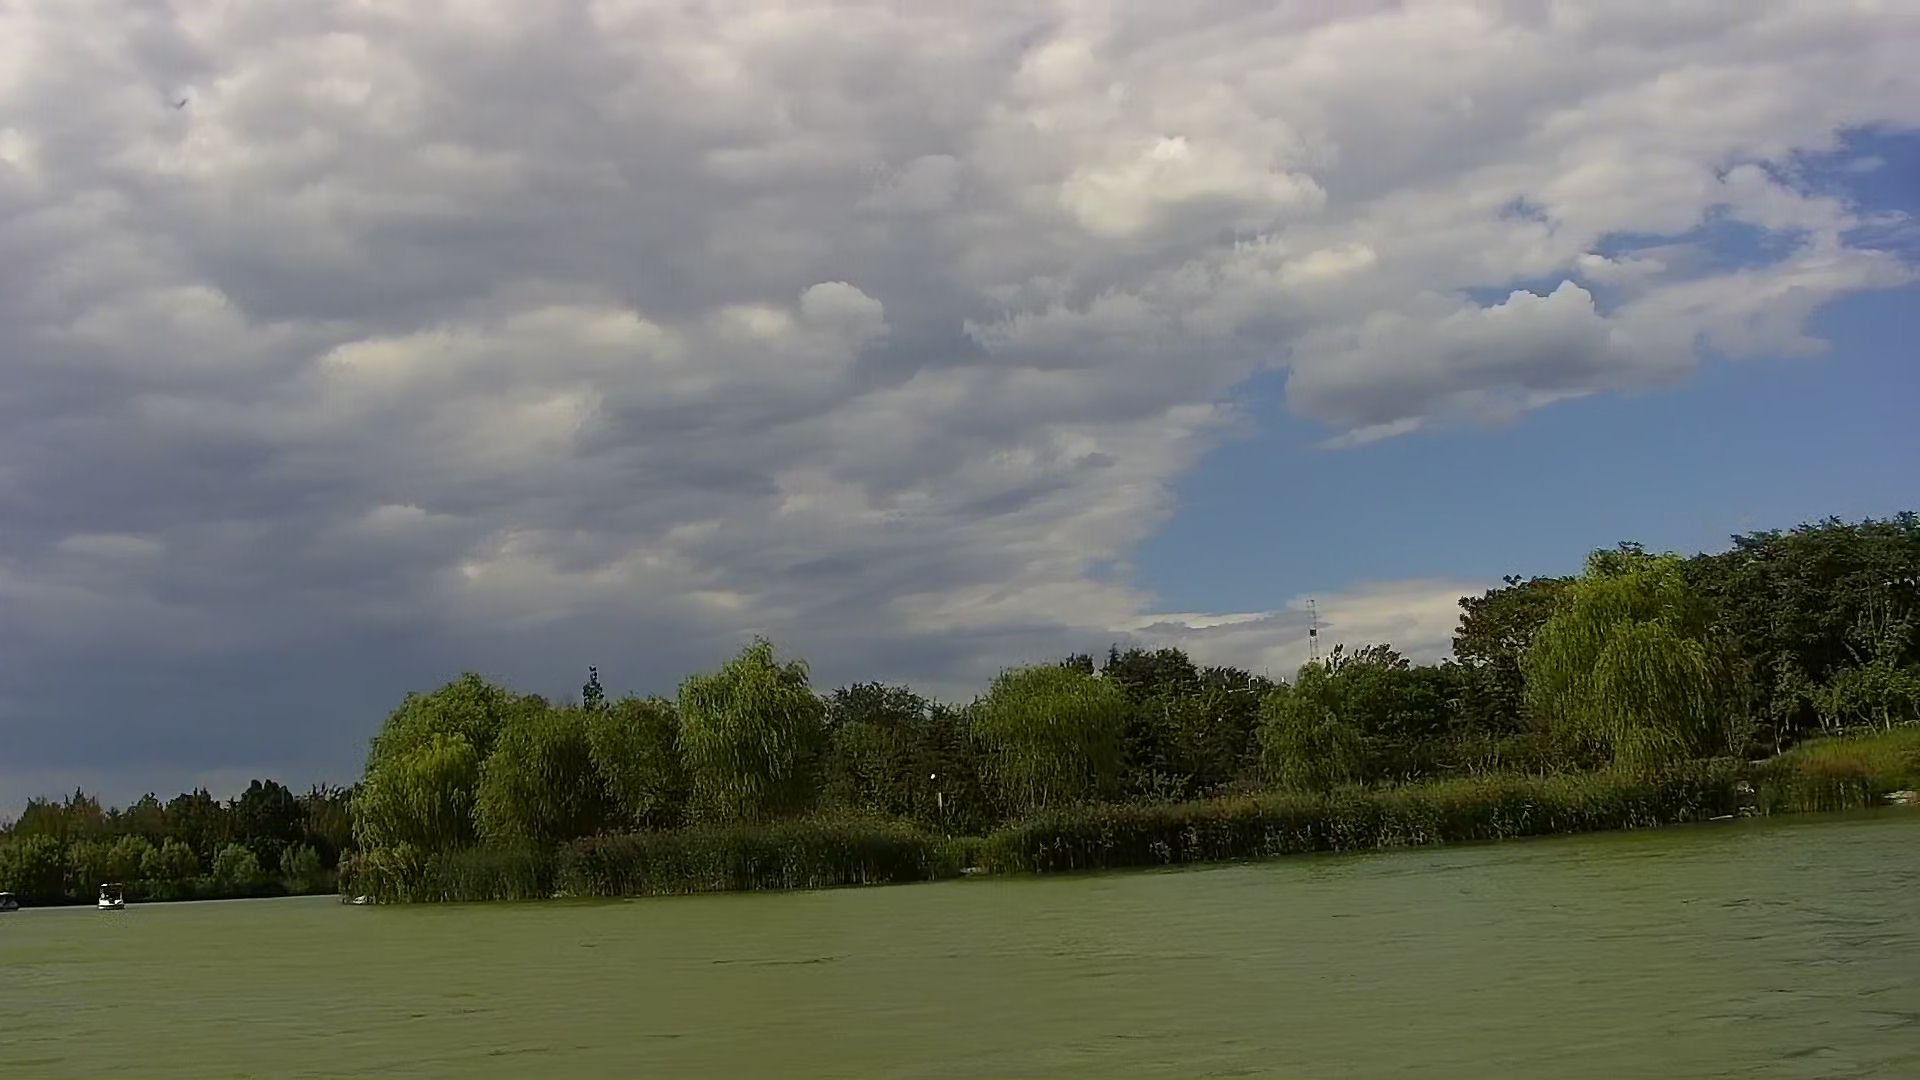boat: (96, 882, 128, 910)
rock: (1880, 785, 1920, 810)
